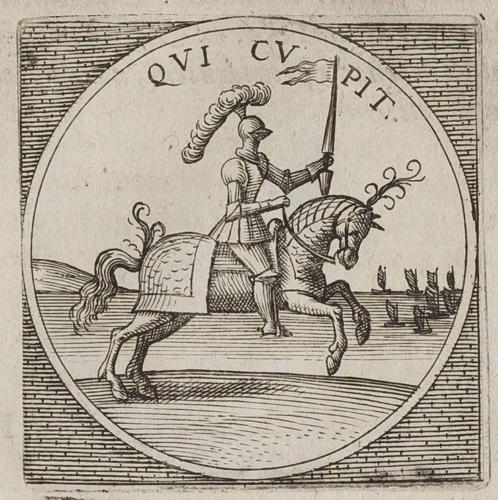banner: (275, 58, 341, 86)
boat: (403, 267, 426, 297), (425, 288, 447, 319), (413, 306, 435, 336), (384, 300, 406, 329), (372, 265, 394, 294), (439, 286, 460, 315), (425, 267, 445, 296), (442, 268, 461, 293)
horse: (99, 191, 377, 396)
knight: (211, 117, 336, 345)
lance: (315, 51, 339, 196)
